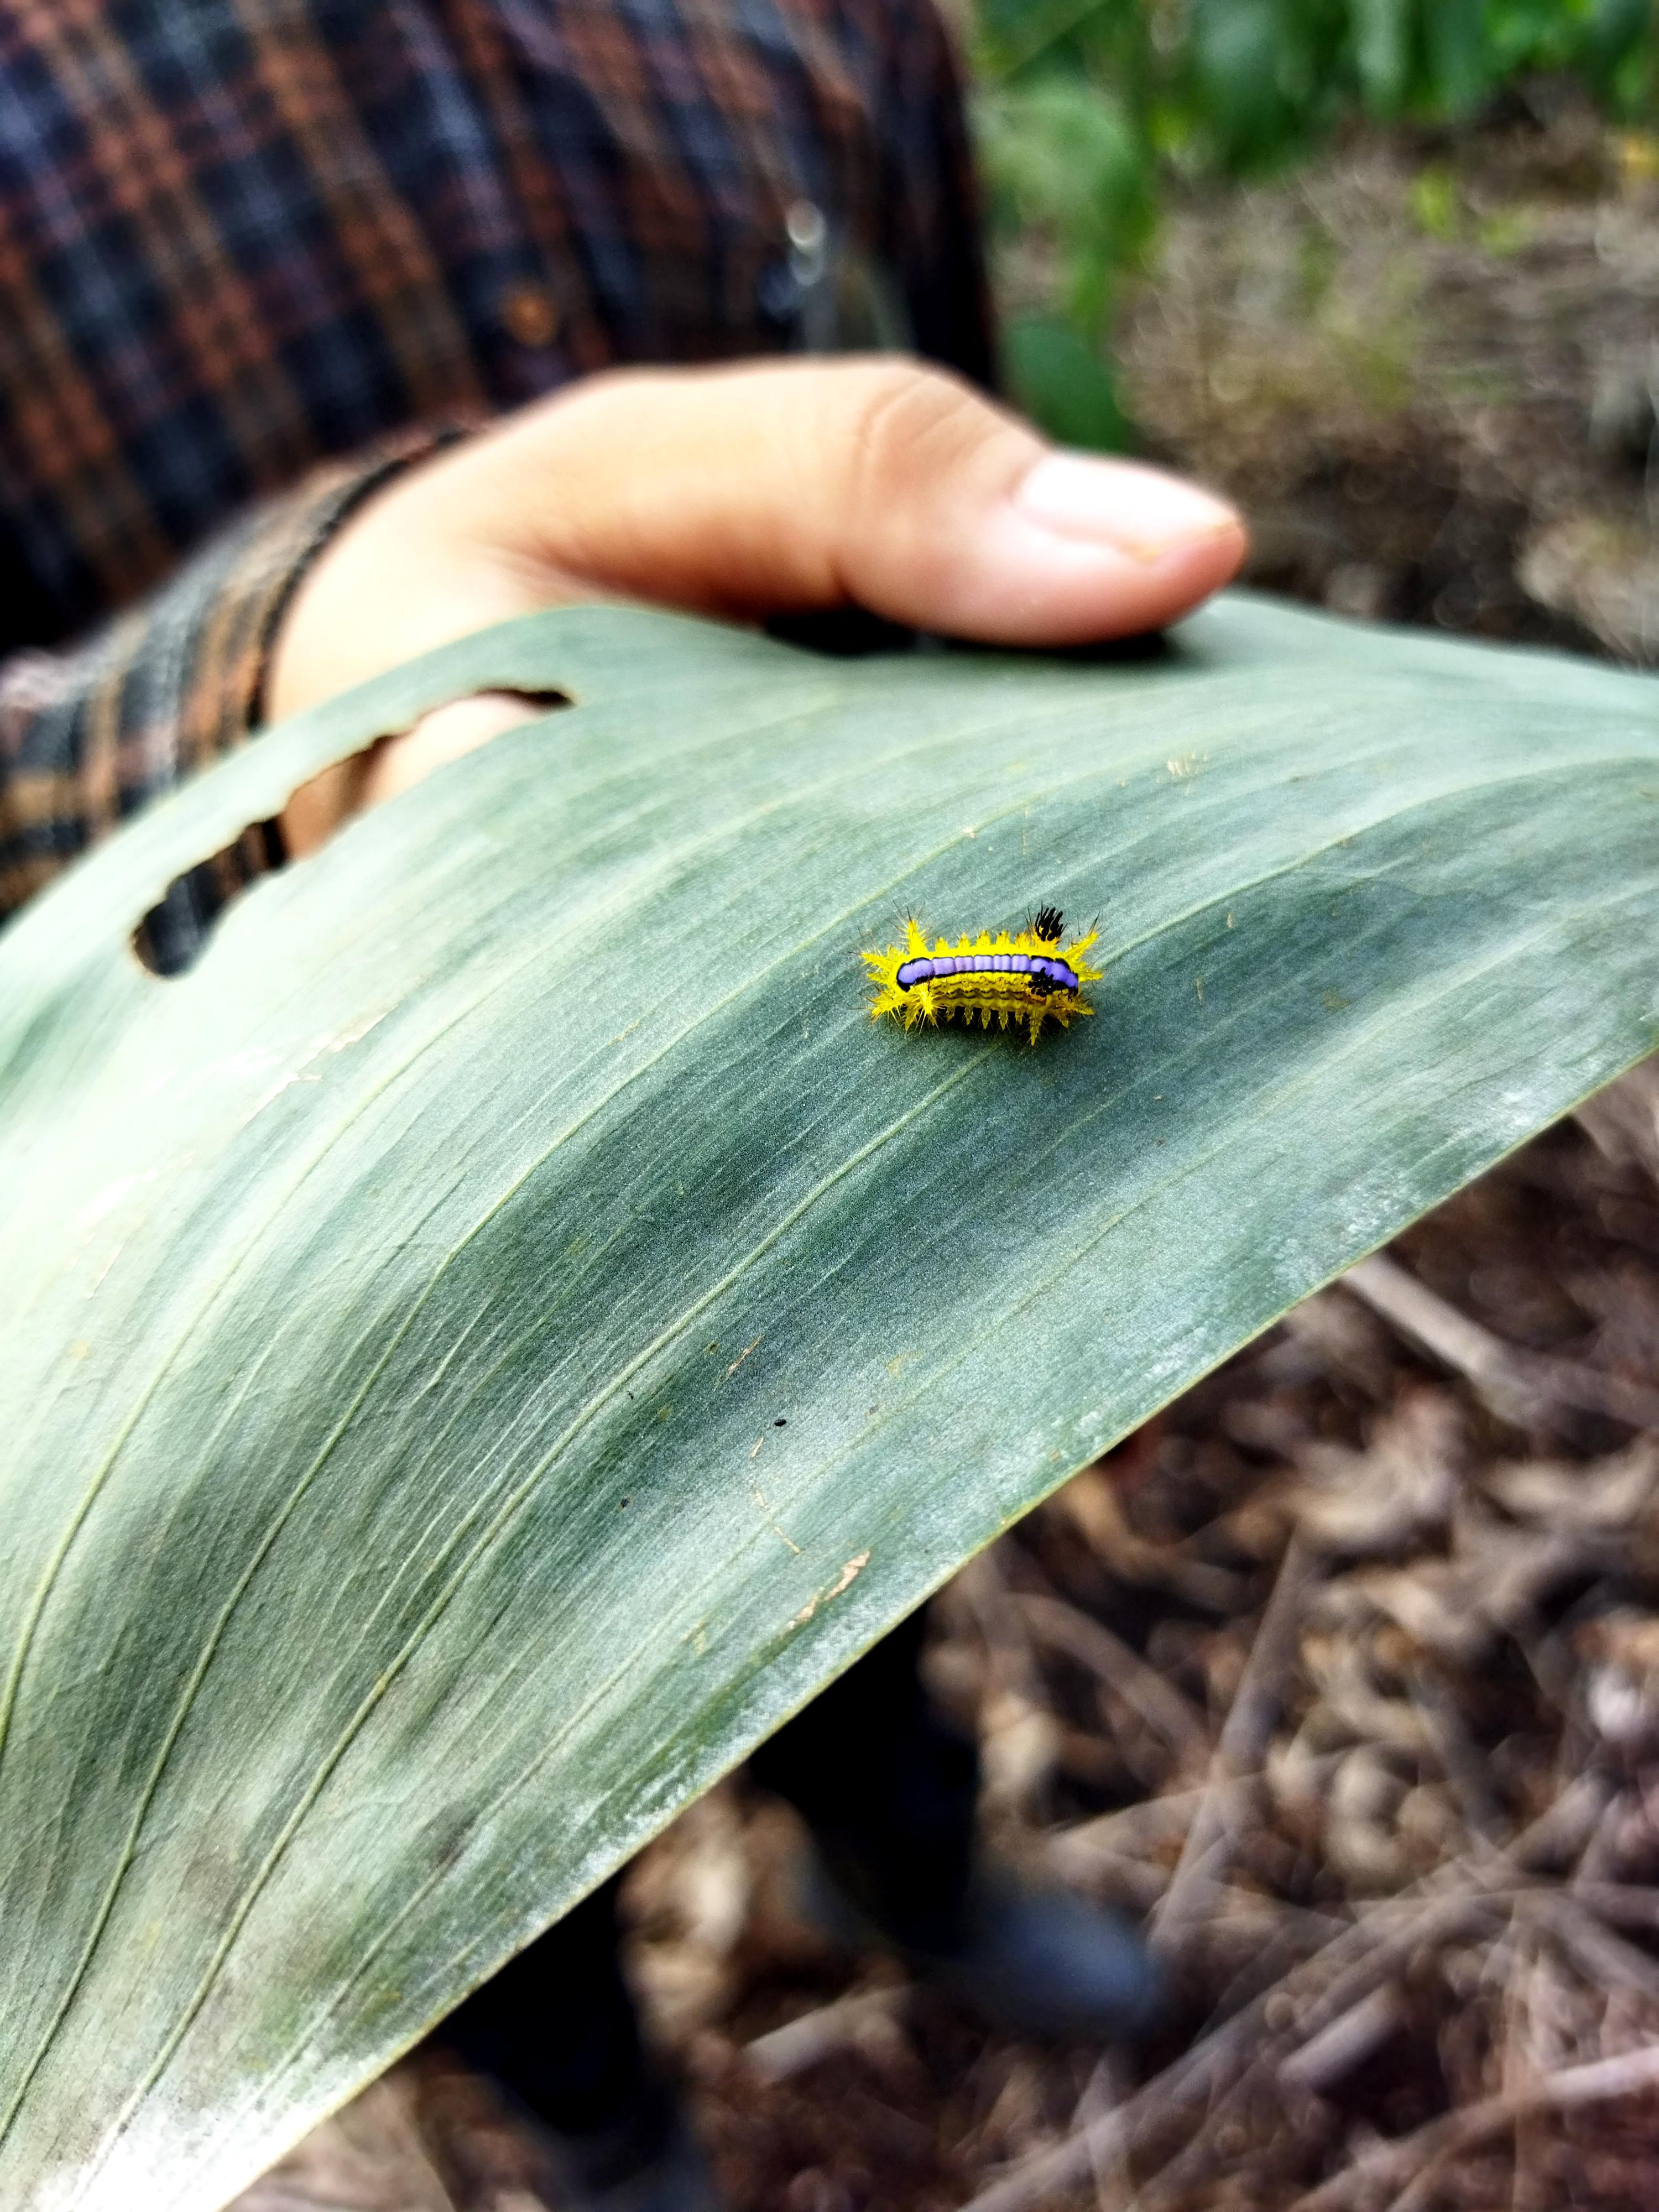Caterpillar: (824, 914, 1169, 1040)
